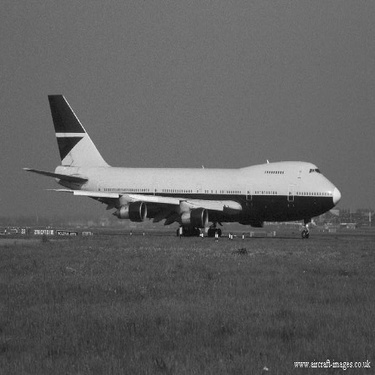airplane: (14, 68, 353, 260)
